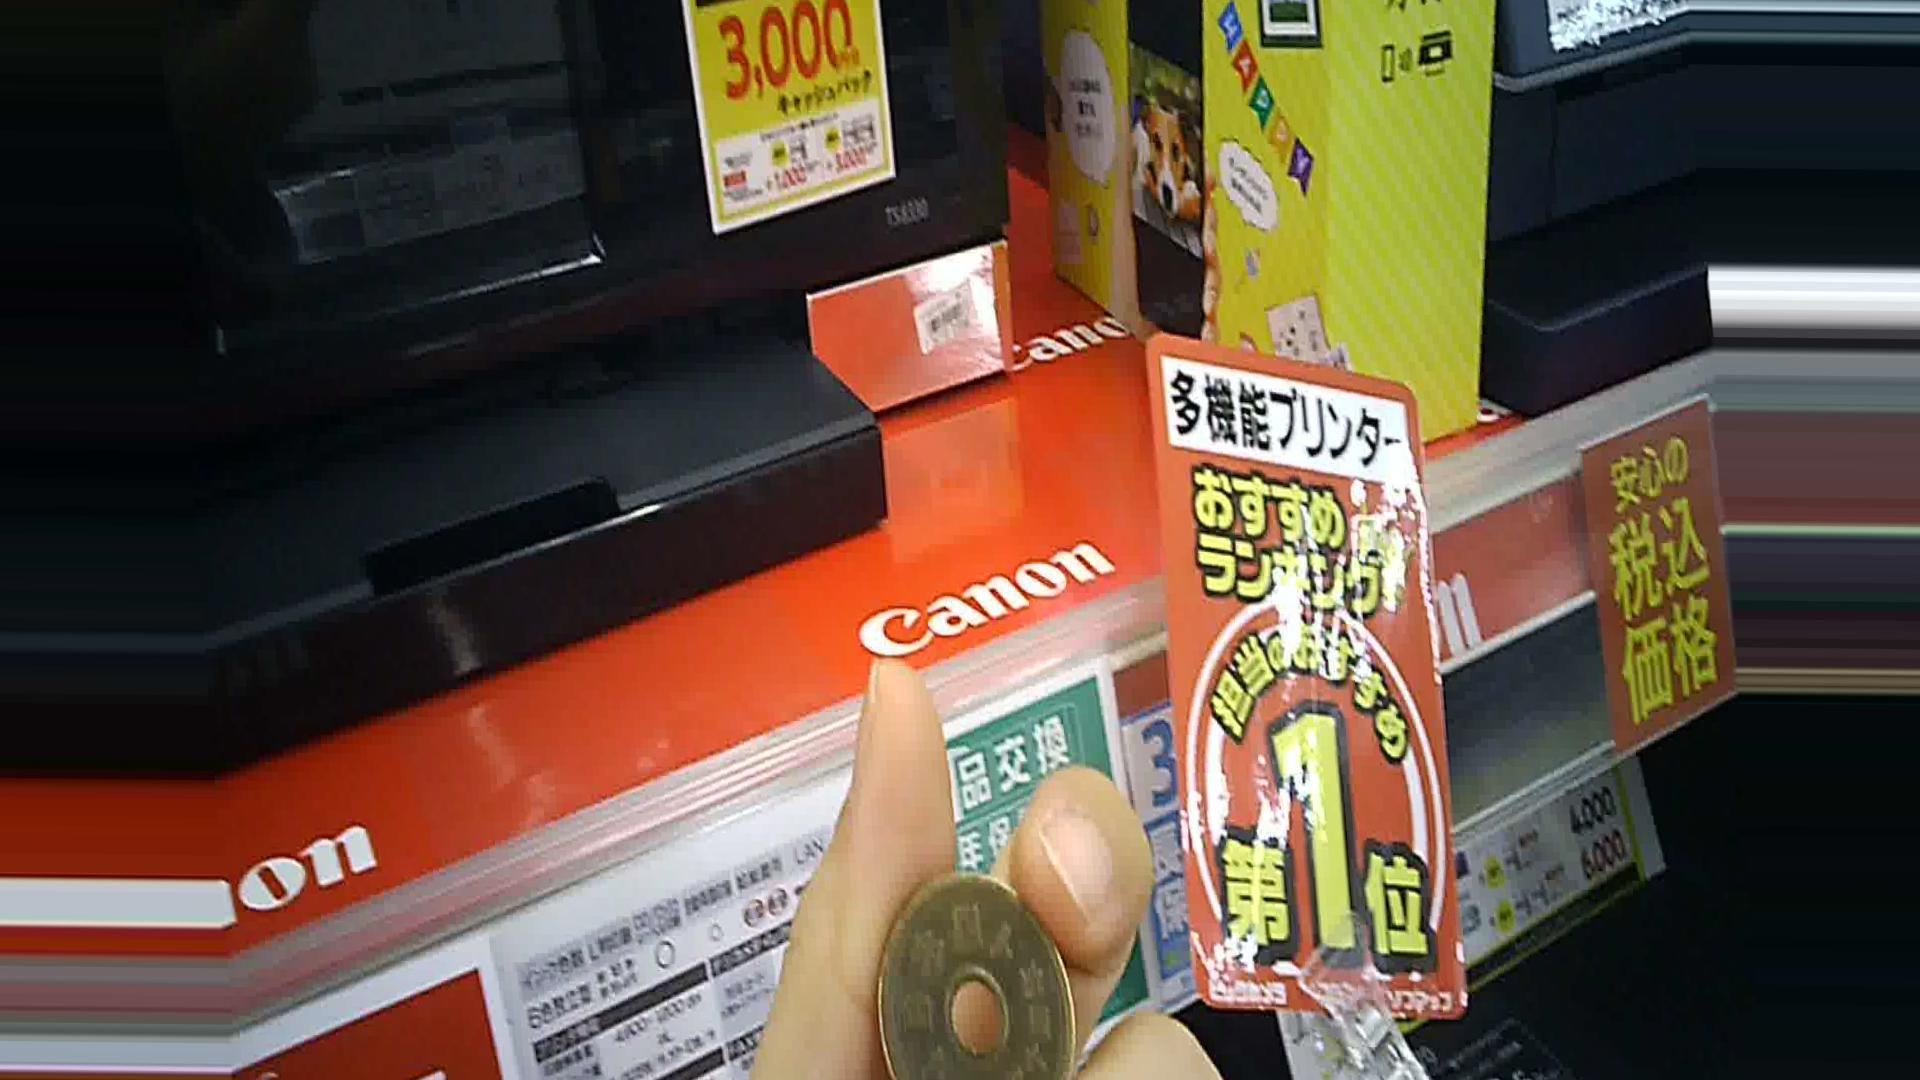5 Yen: (874, 872, 1079, 1079)
